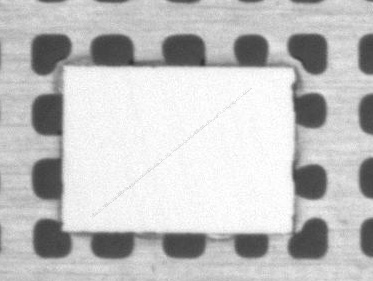DIE_CRACK: (122, 66, 333, 163)
